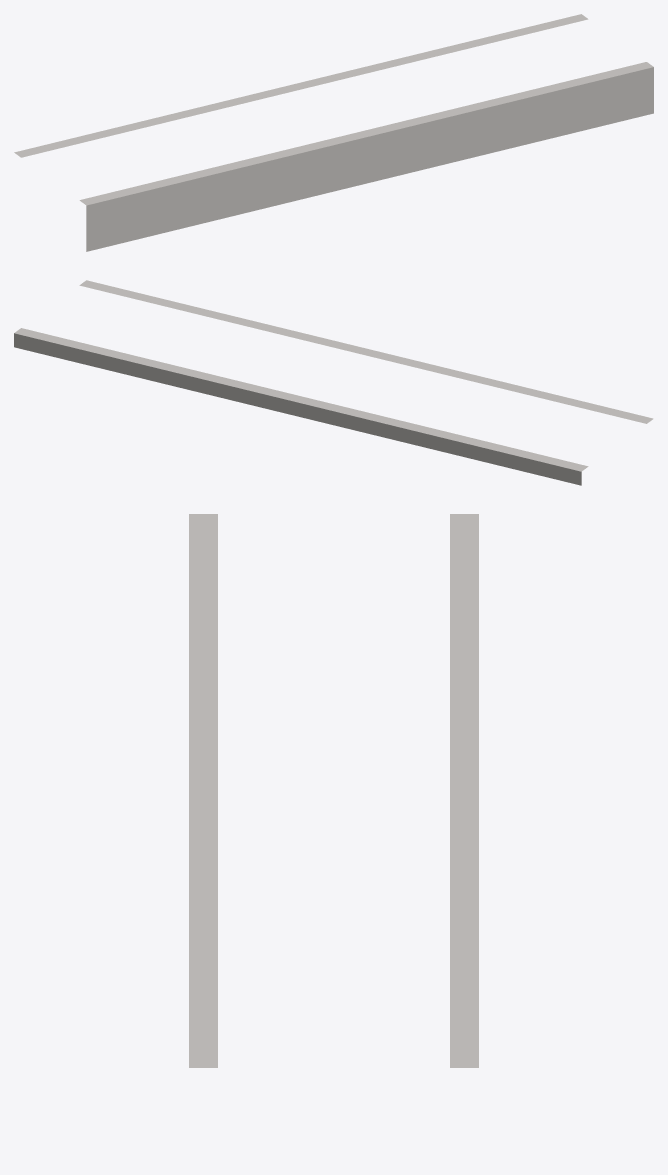
The model's file is kd_stage_135c43_4_27_bounded.glb.
3 views of the same model, one above another, from view 1: azimuth 30°, elevation 25°; view 2: azimuth 150°, elevation 25°; view 3: azimuth 270°, elevation 25° (orthographic). The views are drawn at different scales.
Parts seen in each view (by area): view 1: kd_stage_135c43_4_27_bounded; view 2: kd_stage_135c43_4_27_bounded; view 3: kd_stage_135c43_4_27_bounded.
Part boxes in pixels (<box>): kd_stage_135c43_4_27_bounded: <box>14,14,653,251</box>; kd_stage_135c43_4_27_bounded: <box>14,280,653,485</box>; kd_stage_135c43_4_27_bounded: <box>189,514,478,1067</box>.
Size of the model in its own units: 0.2119 by 0.0166 by 0.0469.
1 material, 1 textured.
